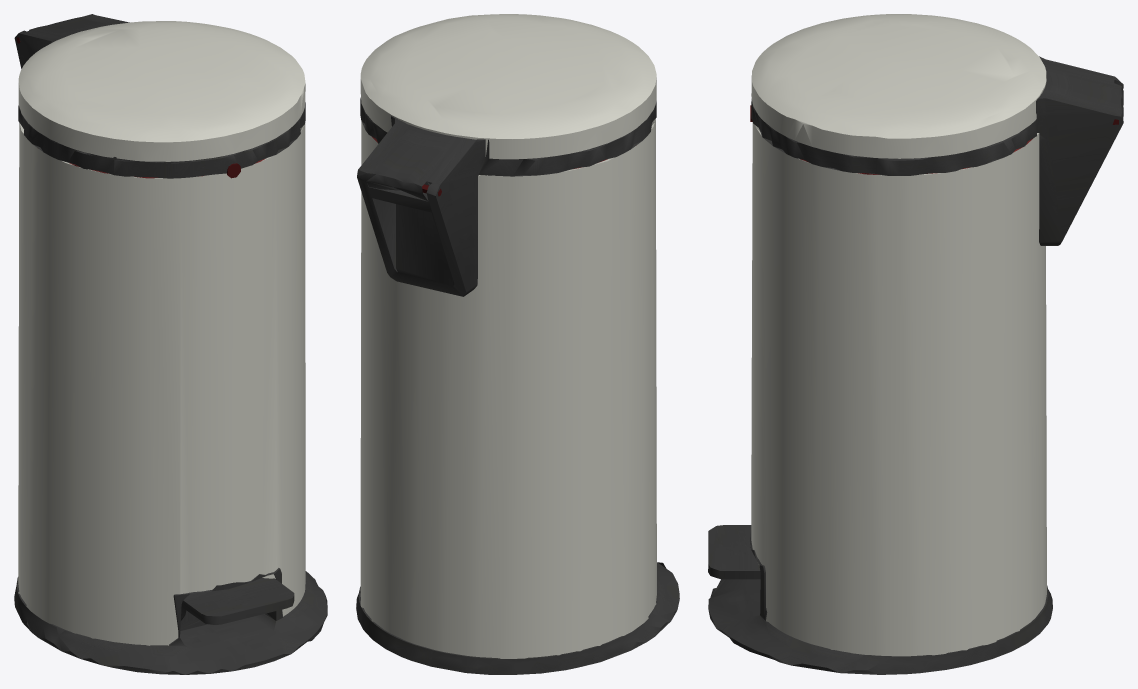
File: simready-bin-waste.4de36209.glb
The picture shows the model from 3 angles, left to right: view 1: azimuth 30°, elevation 25°; view 2: azimuth 150°, elevation 25°; view 3: azimuth 270°, elevation 25°; orthographic projection. The views are drawn at different scales.
Visible parts, largest first — view 1: model; view 2: model; view 3: model.
Boxes of the visible parts, bbox=[...] form: model: bbox=[14, 14, 327, 674]; model: bbox=[356, 14, 679, 674]; model: bbox=[708, 14, 1123, 674].
Bounding box in the file's own units: 0.3675 × 0.6997 × 0.4848.
5 materials, 2 textured.
